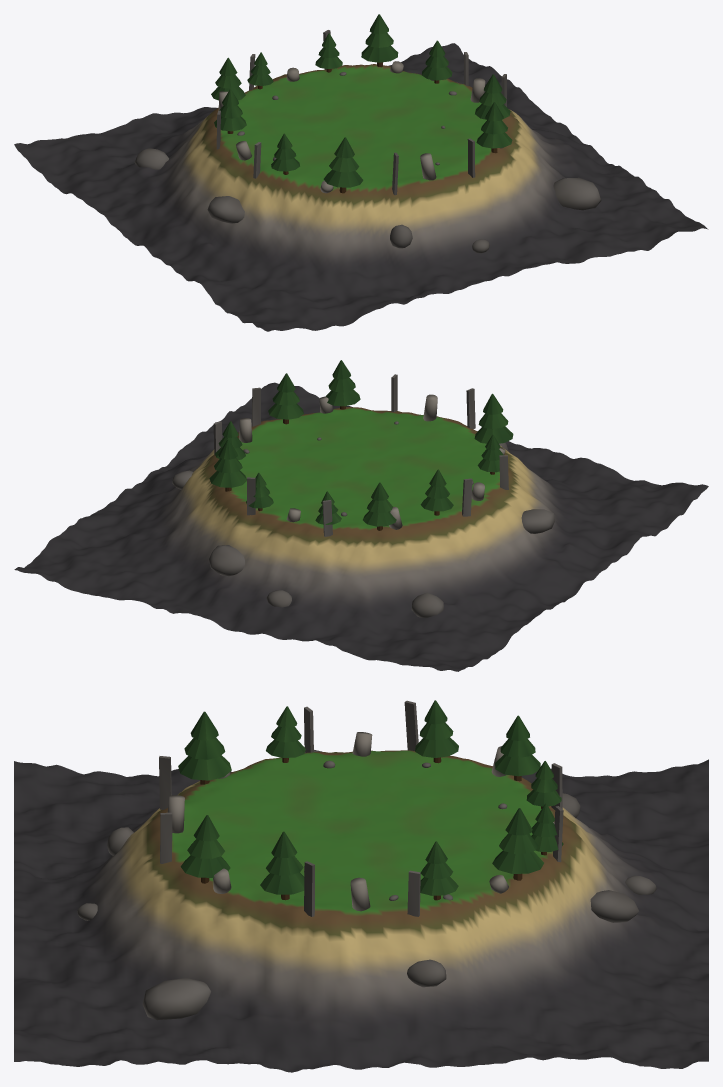
The model's file is island.glb.
The picture shows the model from 3 angles, top to bottom: view 1: azimuth 30°, elevation 25°; view 2: azimuth 150°, elevation 25°; view 3: azimuth 270°, elevation 25°; orthographic projection. The views are drawn at different scales.
Parts seen in each view (by area): view 1: Island, Boulder_04, Tree_03, Tree_00, Tree_02, Boulder_01, Tree_06, Tree_05, Tree_04, Tree_01, Tree_07, Tree_08 (+2 smaller); view 2: Island, Tree_00, Tree_03, Tree_06, Tree_02, Tree_01, Boulder_02, Tree_05, Boulder_01, Boulder_05, Tree_07, Tree_08; view 3: Island, Boulder_04, Tree_03, Tree_00, Tree_06, Tree_02, Tree_01, Tree_05, Tree_04, Tree_07, Boulder_02, Tree_09 (+6 smaller).
Boxes of the visible parts, bbox=[...] form: Island: bbox=[14, 43, 708, 331]; Boulder_04: bbox=[553, 177, 601, 210]; Tree_03: bbox=[323, 137, 363, 193]; Tree_00: bbox=[361, 14, 398, 67]; Tree_02: bbox=[476, 102, 512, 153]; Boulder_01: bbox=[207, 196, 244, 223]; Tree_06: bbox=[475, 74, 510, 119]; Tree_05: bbox=[214, 89, 246, 133]; Tree_04: bbox=[422, 40, 452, 83]; Tree_01: bbox=[211, 57, 245, 100]; Tree_07: bbox=[271, 133, 299, 174]; Tree_08: bbox=[315, 33, 342, 72]; Island: bbox=[14, 382, 708, 671]; Tree_00: bbox=[209, 439, 246, 491]; Tree_03: bbox=[474, 393, 513, 443]; Tree_06: bbox=[268, 373, 303, 424]; Tree_02: bbox=[325, 360, 360, 409]; Tree_01: bbox=[363, 482, 396, 530]; Boulder_02: bbox=[209, 545, 244, 576]; Tree_05: bbox=[420, 469, 453, 515]; Boulder_01: bbox=[521, 509, 554, 533]; Boulder_05: bbox=[411, 592, 443, 617]; Tree_07: bbox=[477, 434, 503, 474]; Tree_08: bbox=[246, 472, 273, 510]; Island: bbox=[14, 750, 708, 1072]; Boulder_04: bbox=[142, 978, 210, 1020]; Tree_03: bbox=[178, 711, 231, 784]; Tree_00: bbox=[492, 808, 543, 880]; Tree_06: bbox=[260, 831, 304, 900]; Tree_02: bbox=[180, 815, 230, 883]; Tree_01: bbox=[495, 715, 540, 781]; Tree_05: bbox=[415, 700, 458, 763]; Tree_04: bbox=[420, 841, 458, 900]; Tree_07: bbox=[266, 706, 305, 762]; Boulder_02: bbox=[590, 890, 638, 922]; Tree_09: bbox=[526, 761, 561, 808].
Size of the model in its own units: 32 by 8.59 by 32.
